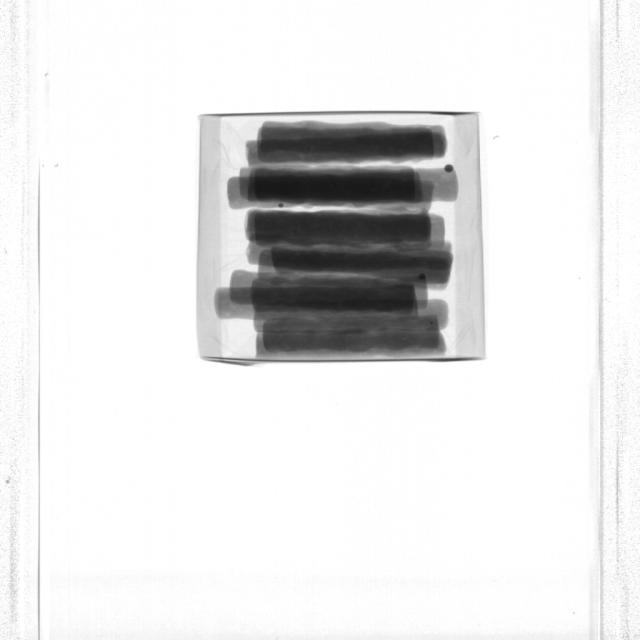ym: (446, 164, 454, 174), (419, 273, 427, 281), (279, 203, 284, 208), (430, 321, 434, 325)
